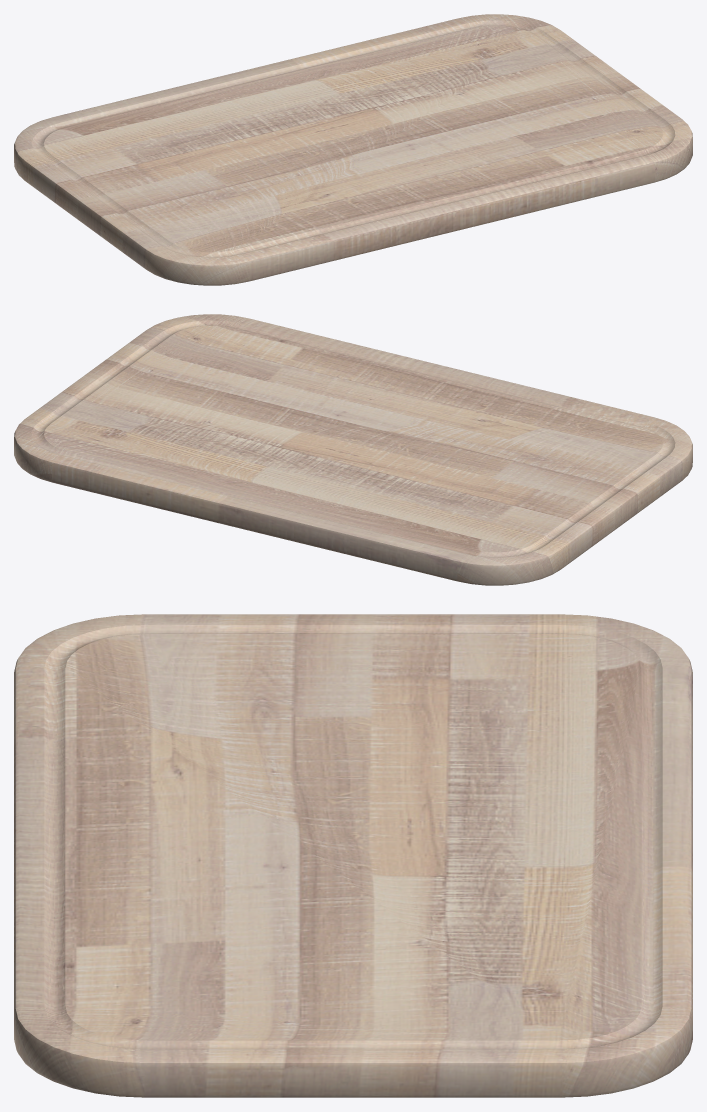
File: Board.obj
3 views of the same model, one above another, from view 1: azimuth 30°, elevation 25°; view 2: azimuth 150°, elevation 25°; view 3: azimuth 270°, elevation 25° (orthographic). The views are drawn at different scales.
Visible parts, largest first — view 1: wooden_board; view 2: wooden_board; view 3: wooden_board.
Boxes of the visible parts, box(x1,y1,x2,y2) form: wooden_board: box(14, 14, 692, 285); wooden_board: box(14, 314, 692, 585); wooden_board: box(14, 614, 692, 1097).
Size of the model in its own units: 1.67 by 0.0652 by 1.07.
